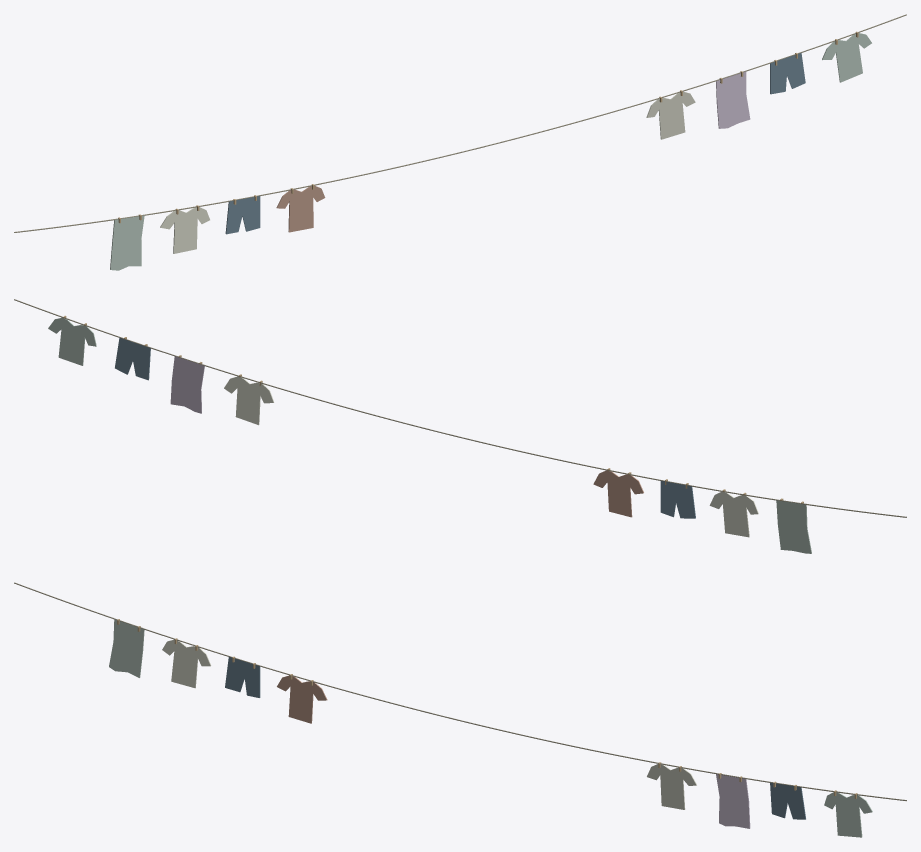
File: alley-line.glb
3 views of the same model, one above another, from view 1: azimuth 30°, elevation 25°; view 2: azimuth 150°, elevation 25°; view 3: azimuth 330°, elevation 25° (orthographic).
Visible parts, largest first — view 1: Fixed clothesline, Cloth_Towel_0, Cloth_Towel_5, Cloth_Tee_3, Cloth_Tee_1, Cloth_Tee_7, Cloth_Tee_4, Cloth_Shorts_6, Cloth_Shorts_2; view 2: Fixed clothesline, Cloth_Towel_0, Cloth_Towel_5, Cloth_Tee_4, Cloth_Tee_1, Cloth_Tee_7, Cloth_Tee_3, Cloth_Shorts_2, Cloth_Shorts_6; view 3: Fixed clothesline, Cloth_Towel_0, Cloth_Towel_5, Cloth_Tee_1, Cloth_Tee_7, Cloth_Tee_3, Cloth_Tee_4, Cloth_Shorts_2, Cloth_Shorts_6.
Boxes of the visible parts, box(x1,y1,x2,y2) form: Fixed clothesline: box(14, 14, 906, 232); Cloth_Towel_0: box(110, 215, 144, 270); Cloth_Towel_5: box(716, 71, 750, 128); Cloth_Tee_3: box(276, 186, 325, 232); Cloth_Tee_1: box(160, 207, 209, 253); Cloth_Tee_7: box(822, 33, 871, 82); Cloth_Tee_4: box(646, 91, 695, 139); Cloth_Shorts_6: box(770, 53, 805, 94); Cloth_Shorts_2: box(225, 196, 260, 234); Fixed clothesline: box(14, 299, 906, 517); Cloth_Towel_0: box(776, 500, 811, 553); Cloth_Towel_5: box(170, 356, 204, 413); Cloth_Tee_4: box(224, 376, 274, 425); Cloth_Tee_1: box(709, 491, 758, 537); Cloth_Tee_7: box(48, 317, 96, 365); Cloth_Tee_3: box(593, 470, 643, 517); Cloth_Shorts_2: box(660, 481, 695, 518); Cloth_Shorts_6: box(115, 337, 150, 380); Fixed clothesline: box(14, 582, 906, 801); Cloth_Towel_0: box(109, 619, 144, 677); Cloth_Towel_5: box(716, 774, 750, 828); Cloth_Tee_1: box(162, 639, 211, 688); Cloth_Tee_7: box(824, 792, 872, 837); Cloth_Tee_3: box(277, 675, 327, 723); Cloth_Tee_4: box(647, 764, 696, 809); Cloth_Shorts_2: box(225, 657, 260, 697); Cloth_Shorts_6: box(770, 782, 805, 819).
Size of the model in its own units: 15.5 by 1.15 by 0.1058.
